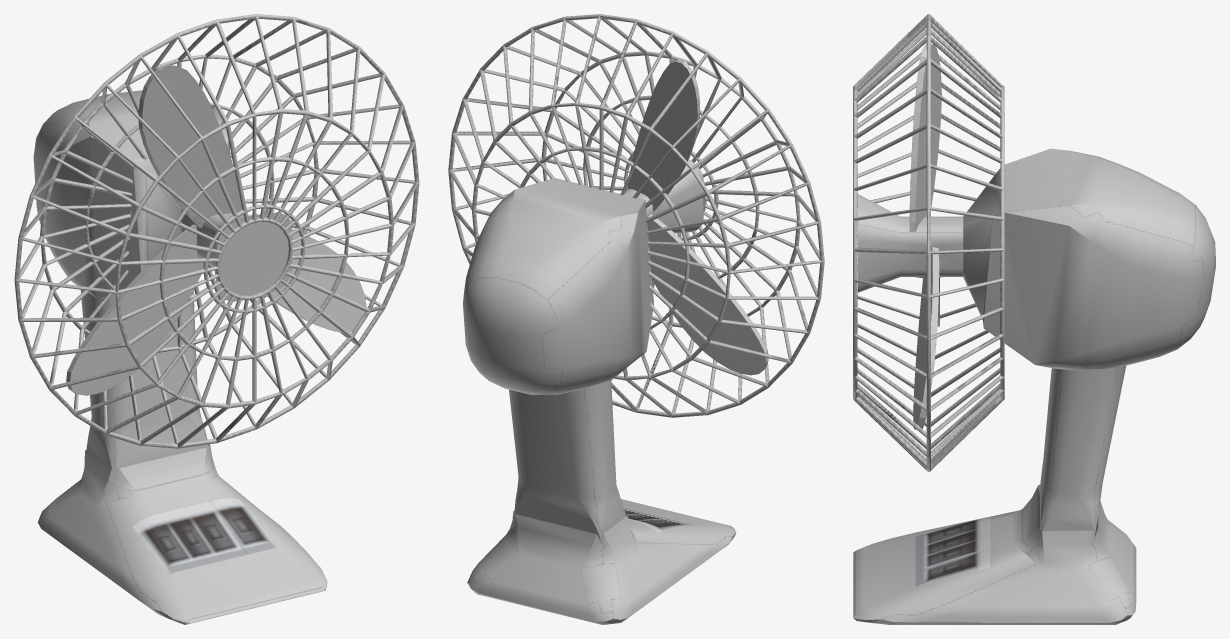
3 views of the same model, side by side, from view 1: azimuth 30°, elevation 25°; view 2: azimuth 150°, elevation 25°; view 3: azimuth 270°, elevation 25° (orthographic). The views are drawn at different scales.
Visible parts, largest first — view 1: Cubo.003; view 2: Cubo.003; view 3: Cubo.003.
Part boxes in pixels (x1,y1,x2,y2): Cubo.003: [14, 14, 419, 624]; Cubo.003: [448, 14, 824, 624]; Cubo.003: [853, 14, 1215, 624].
Bounding box in the file's own units: 0.3978 × 0.5285 × 0.3149.
1 material, 1 textured.
